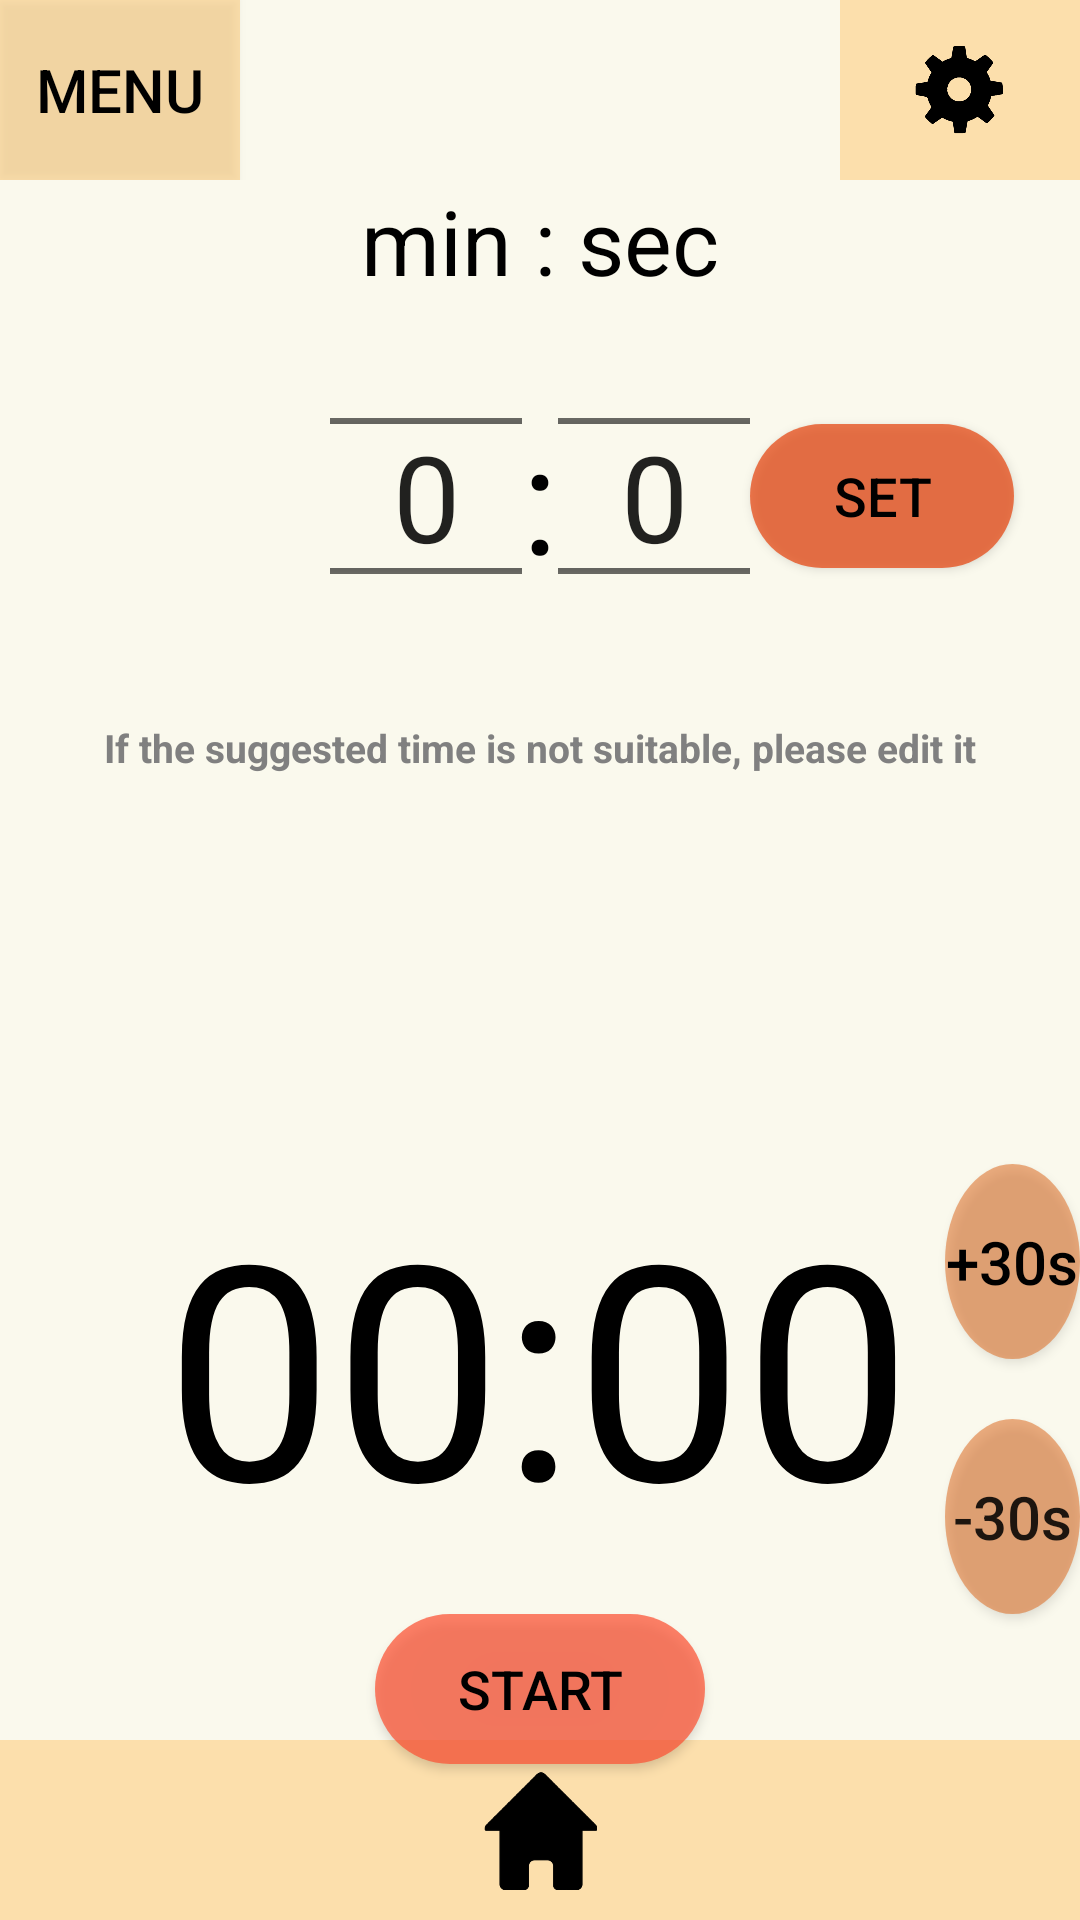

Screen size 1080px×1920px. Icon name, then its box in pixels as (x1, y1, x2, y2):
home: (484, 1772, 597, 1890)
wheel: (915, 46, 1003, 133)
